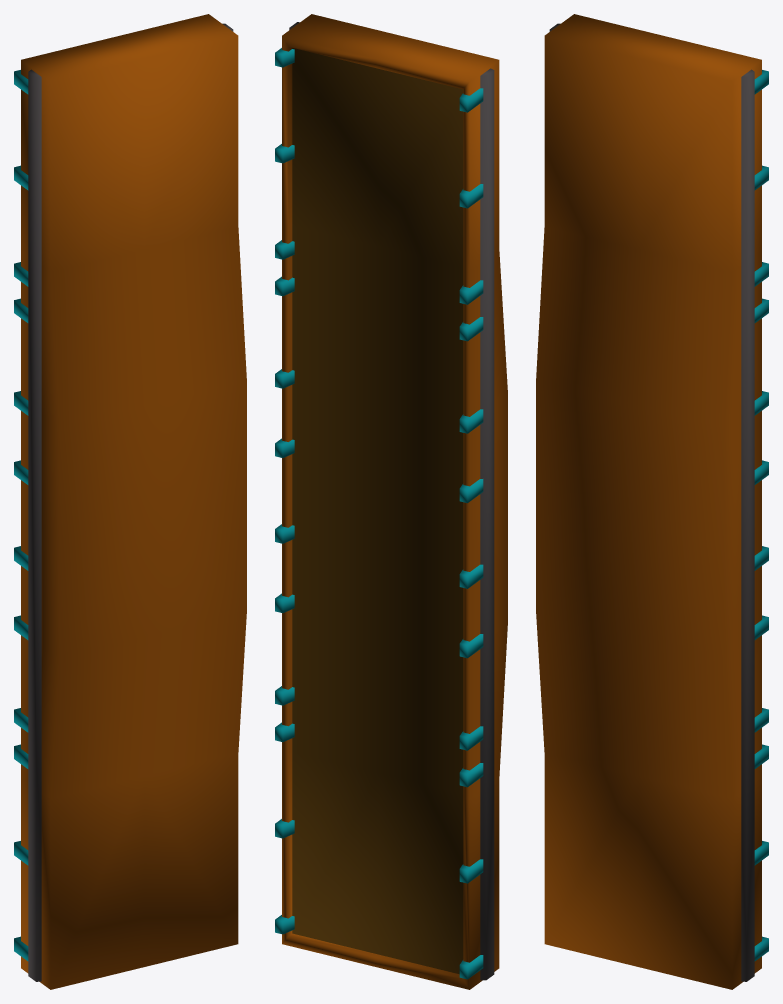
File: PlatformWagon_13_4.fbx
3 renders of one model, left to right at view 1: azimuth 30°, elevation 25°; view 2: azimuth 150°, elevation 25°; view 3: azimuth 330°, elevation 25°, orthographic.
Visible parts, largest first — view 1: LP_13_4_PlatformWagon; view 2: LP_13_4_PlatformWagon; view 3: LP_13_4_PlatformWagon.
Boxes of the visible parts, x1=… form: LP_13_4_PlatformWagon: x1=14, y1=14, x2=246, y2=989; LP_13_4_PlatformWagon: x1=275, y1=14, x2=507, y2=989; LP_13_4_PlatformWagon: x1=536, y1=14, x2=768, y2=989.
Bounding box in the file's own units: 3.04 × 13.4 × 1.14.
